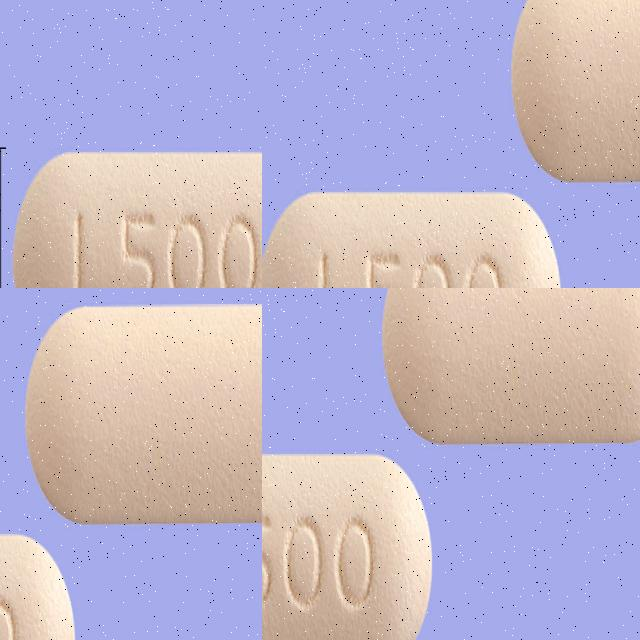Levoby: (380, 288, 640, 446), (262, 451, 433, 640)
Moxiclen Tab-625mg: (262, 144, 553, 288), (524, 0, 640, 203)
Reclarcin Tab: (41, 296, 262, 574)
Septrin: (13, 141, 262, 288)
